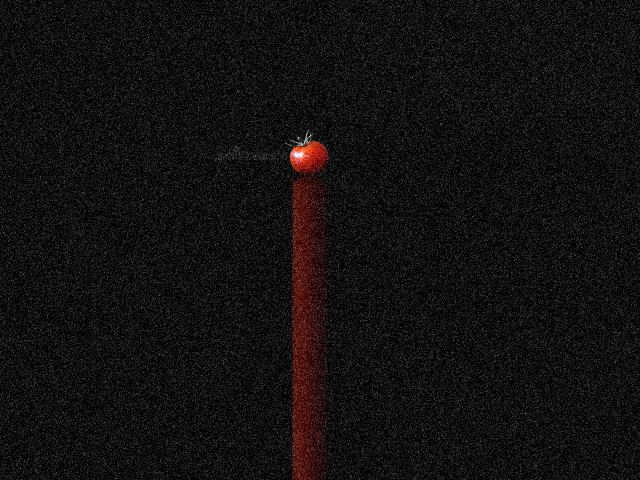tomato: (289, 141, 327, 174)
